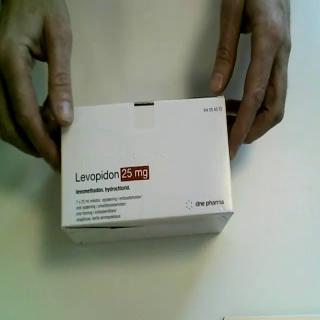levopidon25mg: (59, 94, 235, 246)
